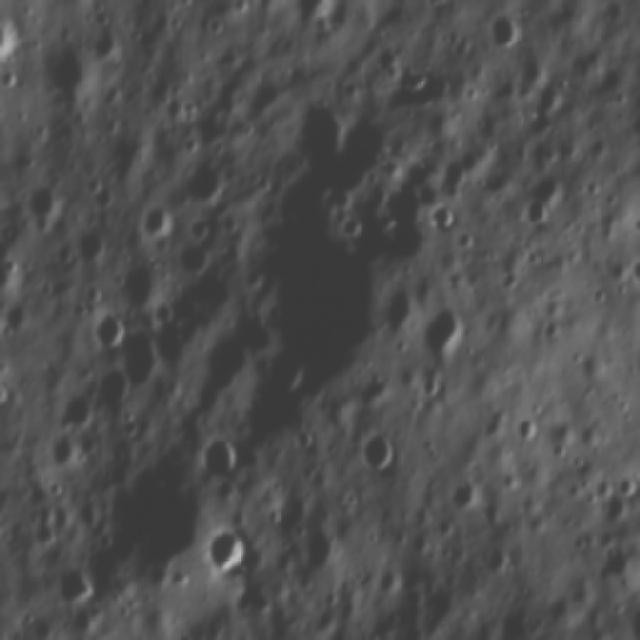crater: (252, 206, 408, 388), (368, 176, 428, 261), (290, 93, 348, 169), (37, 38, 92, 110), (339, 110, 396, 175), (113, 255, 169, 314), (521, 164, 565, 236), (116, 323, 159, 386), (295, 523, 339, 582), (350, 428, 399, 477), (51, 558, 95, 612), (439, 471, 481, 527), (200, 427, 242, 481), (598, 533, 640, 587), (22, 170, 68, 219), (420, 304, 465, 354), (208, 522, 248, 576), (183, 154, 229, 200), (68, 216, 110, 262), (55, 389, 100, 431), (84, 308, 130, 348), (137, 195, 177, 240), (532, 74, 568, 123), (92, 366, 136, 406), (490, 6, 524, 56), (44, 427, 82, 467), (287, 0, 341, 28), (0, 8, 25, 67), (0, 297, 34, 337), (508, 408, 543, 444), (92, 22, 123, 62), (609, 472, 640, 502), (0, 251, 14, 298), (626, 598, 640, 640), (251, 0, 288, 12)
